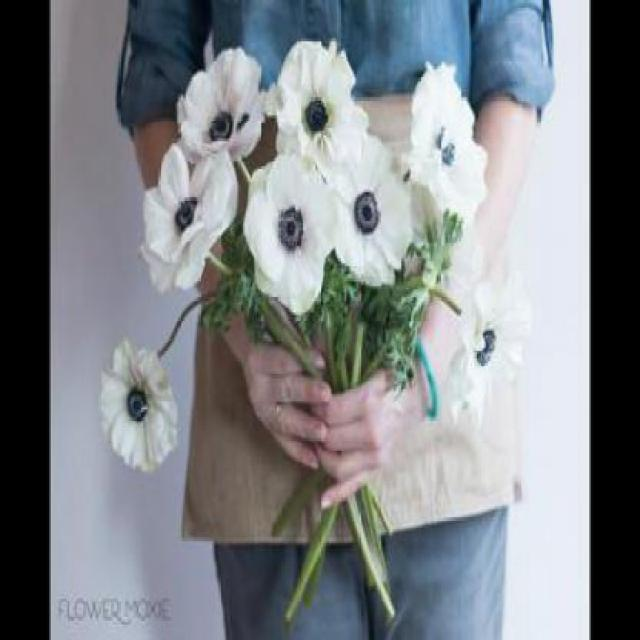Flower: (445, 248, 530, 430), (139, 141, 238, 295), (244, 153, 335, 318), (323, 133, 412, 287), (274, 39, 369, 182), (411, 60, 489, 226), (176, 46, 264, 169), (98, 338, 178, 472), (279, 205, 305, 249), (356, 193, 381, 233), (304, 97, 328, 134), (127, 386, 148, 423), (209, 113, 234, 142), (175, 197, 198, 228)
